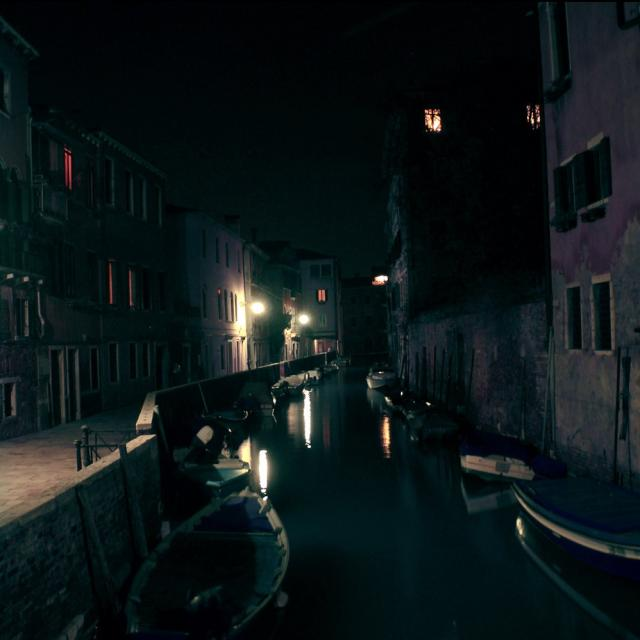Boat: (60, 489, 307, 640), (482, 454, 640, 623), (356, 370, 527, 493), (164, 391, 320, 495)
